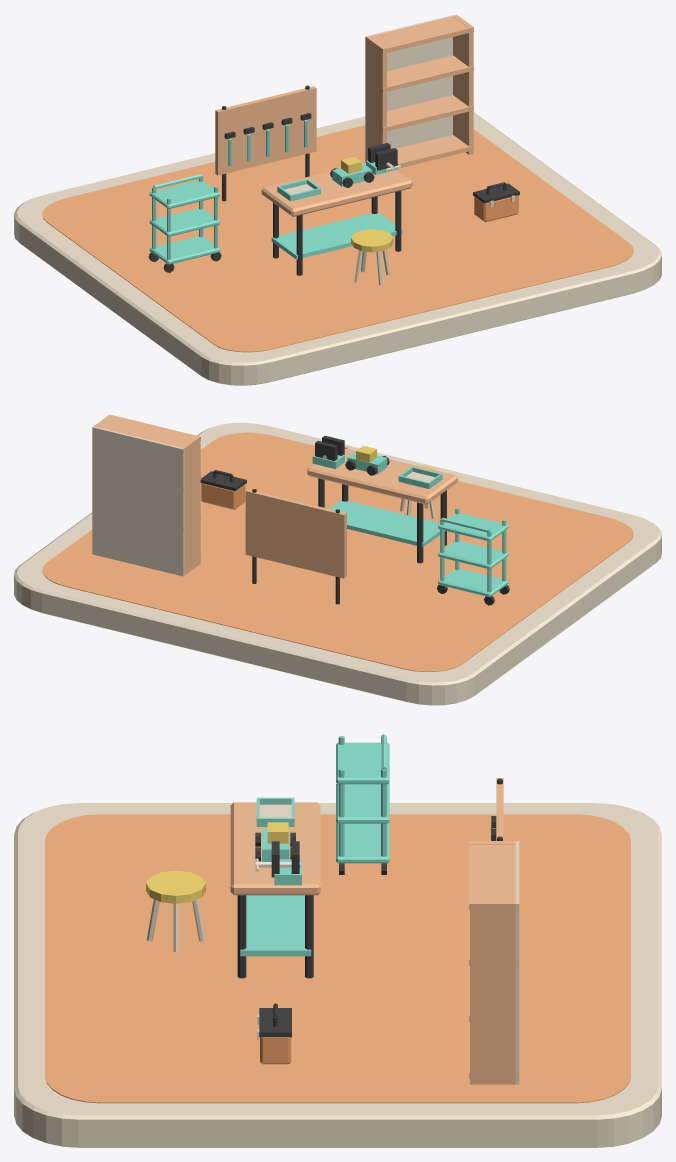
3 views of the same model, one above another, from view 1: azimuth 30°, elevation 25°; view 2: azimuth 150°, elevation 25°; view 3: azimuth 270°, elevation 25° (orthographic). The views are drawn at different scales.
Parts seen in each view (by area): view 1: COM-02 Floor Surface, COM-01 Rounded Base Direct, Peg board, Back, Worktop, Lower shelf, Side, Side.001, Shelf.003, Shelf.002, Shelf.001, Shelf (+5 smaller); view 2: COM-02 Floor Surface, COM-01 Rounded Base Direct, Back, Peg board, Worktop, Lower shelf, Side, Shelf.003, Tray.001, Tray, Tray.002, Box (+1 smaller); view 3: COM-02 Floor Surface, COM-01 Rounded Base Direct, Side.001, Worktop, Lower shelf, Shelf.003, Tray.002, Tray, Tray.001, Seat, Back, Lid (+3 smaller).
Boxes of the visible parts, x1,y1,x2,y2 form: COM-02 Floor Surface: [42, 125, 633, 352]; COM-01 Rounded Base Direct: [14, 112, 661, 385]; Peg board: [215, 86, 316, 175]; Back: [365, 14, 456, 162]; Worktop: [261, 162, 412, 216]; Lower shelf: [271, 212, 402, 259]; Side: [366, 36, 386, 156]; Side.001: [452, 15, 473, 154]; Shelf.003: [365, 16, 473, 53]; Shelf.002: [365, 55, 473, 92]; Shelf.001: [365, 95, 473, 132]; Shelf: [365, 135, 473, 168]; COM-02 Floor Surface: [42, 432, 633, 671]; COM-01 Rounded Base Direct: [14, 423, 661, 705]; Back: [92, 426, 184, 576]; Peg board: [245, 489, 346, 578]; Worktop: [307, 448, 457, 504]; Lower shelf: [329, 499, 445, 547]; Side: [180, 436, 200, 574]; Shelf.003: [98, 414, 200, 453]; Tray.001: [438, 540, 508, 569]; Tray: [438, 568, 508, 597]; Tray.002: [438, 513, 508, 541]; Box: [201, 483, 245, 509]; COM-02 Floor Surface: [45, 814, 630, 1103]; COM-01 Rounded Base Direct: [14, 803, 661, 1147]; Side.001: [470, 901, 515, 1084]; Worktop: [230, 802, 320, 895]; Lower shelf: [240, 895, 311, 956]; Shelf.003: [469, 841, 518, 910]; Tray.002: [336, 742, 389, 784]; Tray: [336, 823, 389, 863]; Tray.001: [336, 783, 389, 823]; Seat: [146, 870, 205, 903]; Back: [515, 841, 519, 1084]; Lid: [259, 1008, 291, 1037].
Size of the model in its own units: 6 by 1.9 by 5.2.
Materials: 1 (1 with a texture image).
